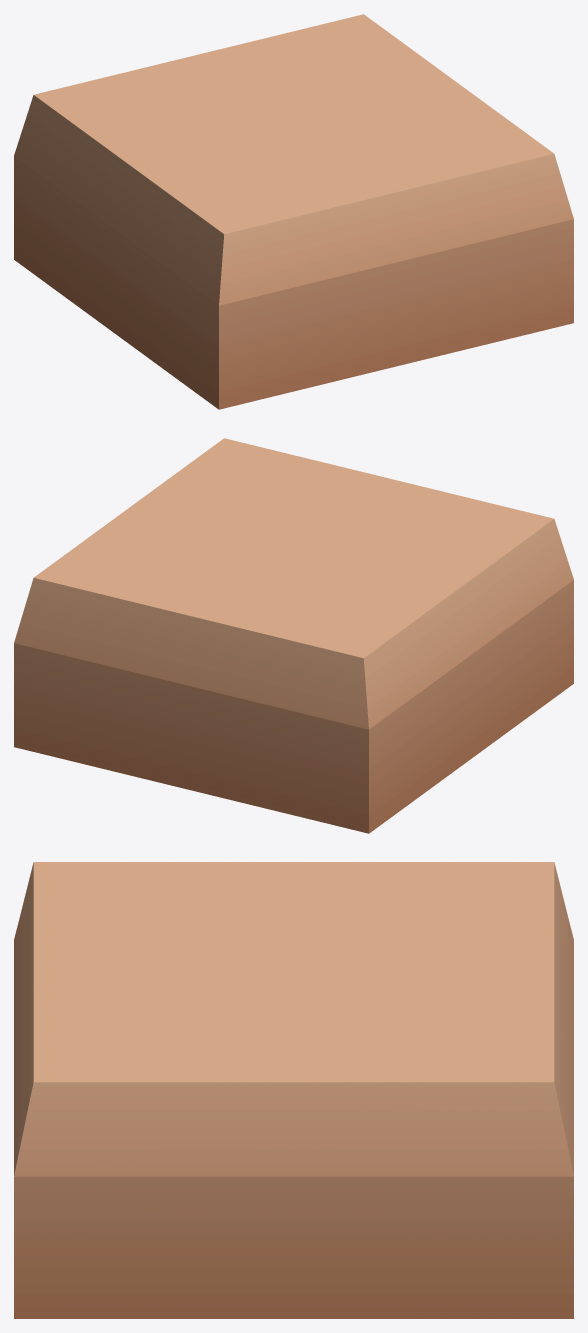
File: tower-square-base-border.glb
The picture shows the model from 3 angles, top to bottom: view 1: azimuth 30°, elevation 25°; view 2: azimuth 150°, elevation 25°; view 3: azimuth 270°, elevation 25°; orthographic projection. The views are drawn at different scales.
Visible parts, largest first — view 1: tower-square-base-border; view 2: tower-square-base-border; view 3: tower-square-base-border.
Part boxes in pixels (left/top/right/bottom): tower-square-base-border: left=14, top=14, right=573, bottom=409; tower-square-base-border: left=14, top=438, right=573, bottom=833; tower-square-base-border: left=14, top=862, right=573, bottom=1318.
Size of the model in its own units: 1 by 0.45 by 1.
1 material, 1 textured.
